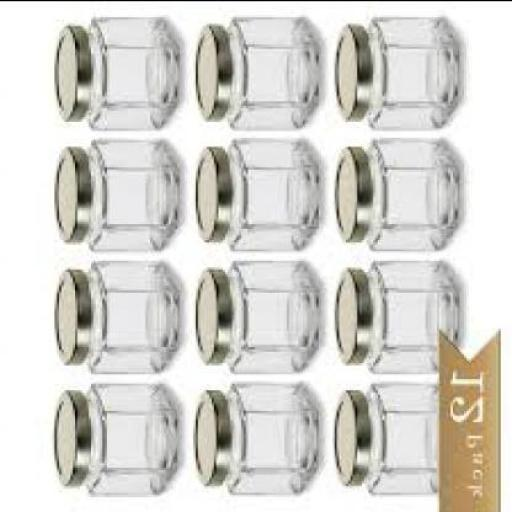glass: (82, 380, 180, 491), (364, 260, 460, 373), (84, 259, 178, 374), (223, 260, 319, 370), (225, 134, 319, 246), (362, 138, 458, 246), (223, 380, 316, 491), (366, 17, 460, 125), (84, 138, 178, 246), (225, 16, 319, 123), (84, 17, 176, 125), (364, 382, 440, 494)
metal: (50, 263, 89, 362), (191, 386, 230, 482), (50, 386, 89, 482), (332, 141, 371, 237), (52, 145, 91, 239), (193, 20, 230, 119), (52, 23, 91, 116), (190, 266, 228, 359), (330, 386, 367, 480), (332, 262, 368, 358), (193, 141, 228, 239), (332, 20, 367, 116)
